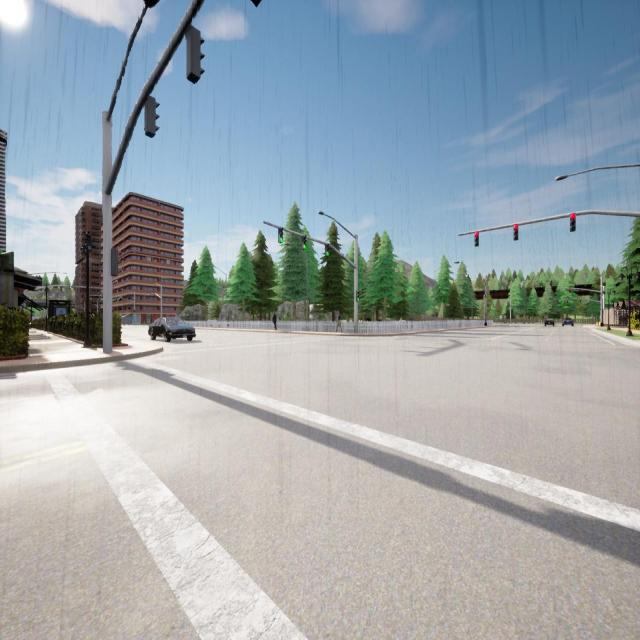Pedestrian: (336, 310, 342, 332), (272, 312, 277, 331)
Traffic_Signs: (500, 316, 502, 318)
Vehicle: (148, 317, 196, 341), (562, 318, 574, 326), (545, 318, 554, 326)
traffic_light: (186, 26, 205, 84), (145, 96, 161, 138), (111, 250, 118, 275), (570, 214, 576, 232), (513, 224, 518, 239), (278, 228, 282, 243), (302, 235, 306, 249), (475, 232, 479, 246), (325, 244, 329, 256), (356, 290, 359, 302), (114, 298, 117, 302), (569, 288, 571, 293), (100, 297, 102, 301), (90, 297, 92, 300), (134, 310, 135, 314), (557, 300, 558, 303), (567, 299, 568, 302), (580, 300, 581, 302)
